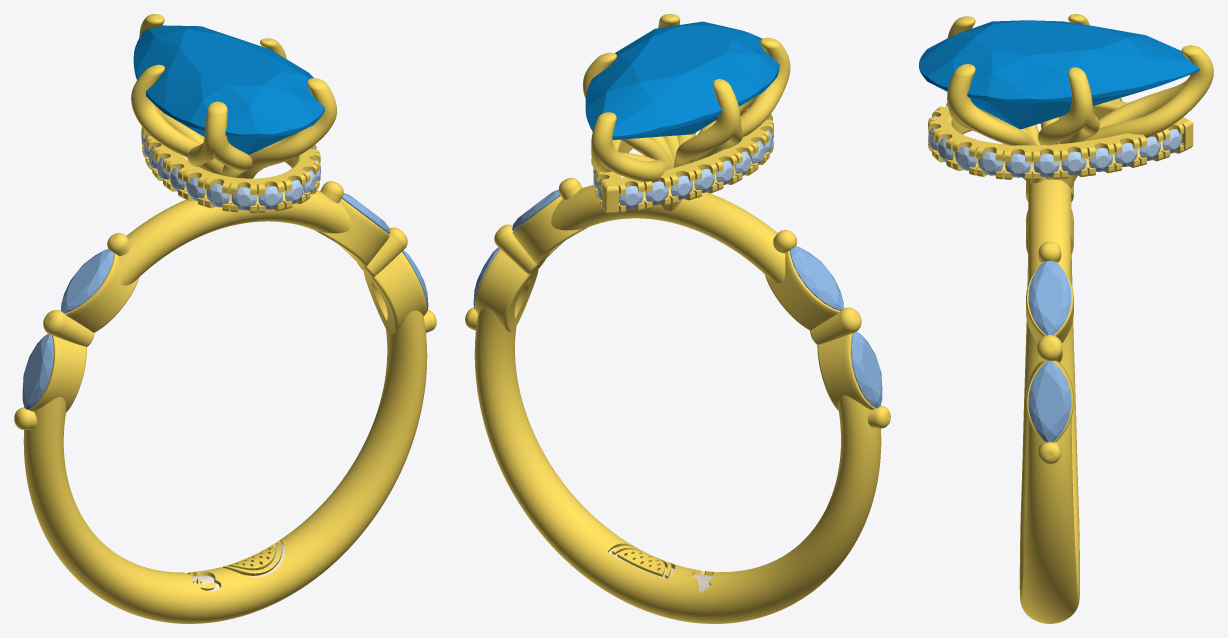
The picture shows the model from 3 angles, left to right: view 1: azimuth 30°, elevation 25°; view 2: azimuth 150°, elevation 25°; view 3: azimuth 270°, elevation 25°; orthographic projection.
Visible parts, largest first — view 1: ZB-269 - David M.3dm, Diamond_Pear, Head Rail (×4), Diamond_Marquise (×2), Head Prong (×2); view 2: ZB-269 - David M.3dm, Diamond_Pear, Head Rail (×4), Diamond_Marquise (×2), Head Prong (×2); view 3: ZB-269 - David M.3dm, Diamond_Pear, Diamond_Marquise (×2), GemOnCrv (×5), Head Prong (×3), Head Rail (×2).
Boxes of the visible parts, <box> form: ZB-269 - David M.3dm: <box>23,14,427,623</box>; Diamond_Pear: <box>133,25,324,154</box>; Head Rail (×4): <box>29,199,426,412</box>; Diamond_Marquise (×2): <box>22,249,114,409</box>; Head Prong (×2): <box>43,227,407,346</box>; ZB-269 - David M.3dm: <box>474,14,881,623</box>; Diamond_Pear: <box>585,21,779,139</box>; Head Rail (×4): <box>475,195,875,410</box>; Diamond_Marquise (×2): <box>790,246,882,408</box>; Head Prong (×2): <box>494,224,861,344</box>; ZB-269 - David M.3dm: <box>928,14,1213,623</box>; Diamond_Pear: <box>919,20,1199,129</box>; Diamond_Marquise (×2): <box>1028,261,1071,442</box>; GemOnCrv (×5): <box>978,148,1112,177</box>; Head Prong (×3): <box>1037,241,1062,464</box>; Head Rail (×2): <box>1026,261,1073,442</box>.
Bounding box in the file's own units: 2.31 × 2.95 × 1.39.
